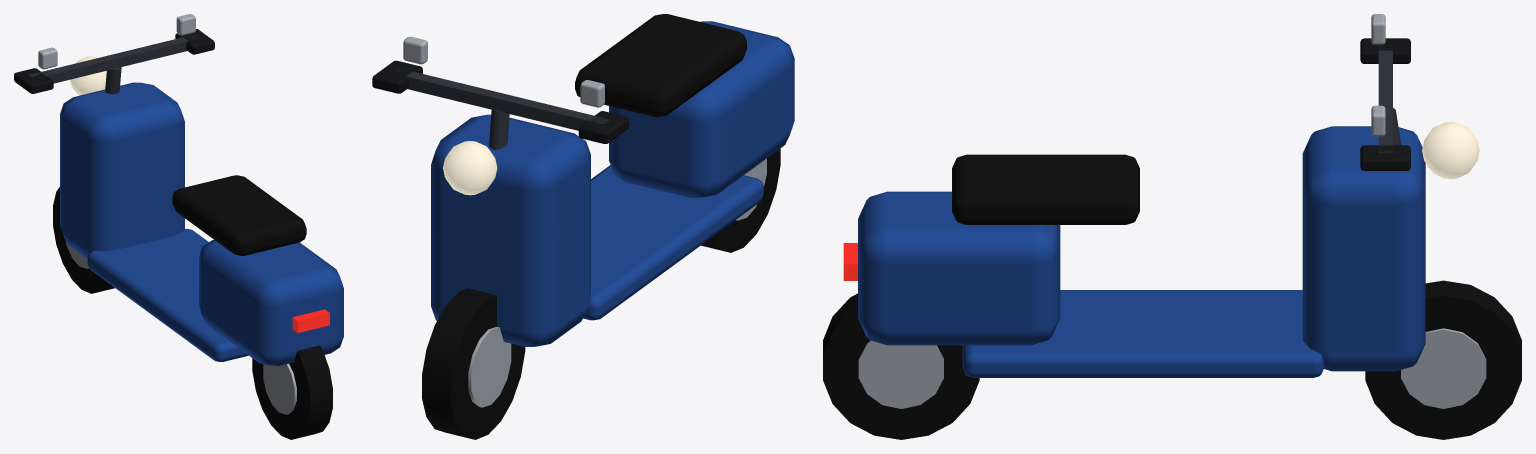
Rendered from obstacle_scooter.glb.
3 renders of one model, left to right at view 1: azimuth 30°, elevation 25°; view 2: azimuth 150°, elevation 25°; view 3: azimuth 270°, elevation 25°, orthographic. The views are drawn at different scales.
Visible parts, largest first — view 1: Scooter; view 2: Scooter; view 3: Scooter.
Boxes of the visible parts, left/top/right/bottom form: Scooter: left=14, top=14, right=343, bottom=439; Scooter: left=372, top=14, right=794, bottom=439; Scooter: left=823, top=14, right=1521, bottom=439.
Bounding box in the file's own units: 0.8 × 1.12 × 1.93.
